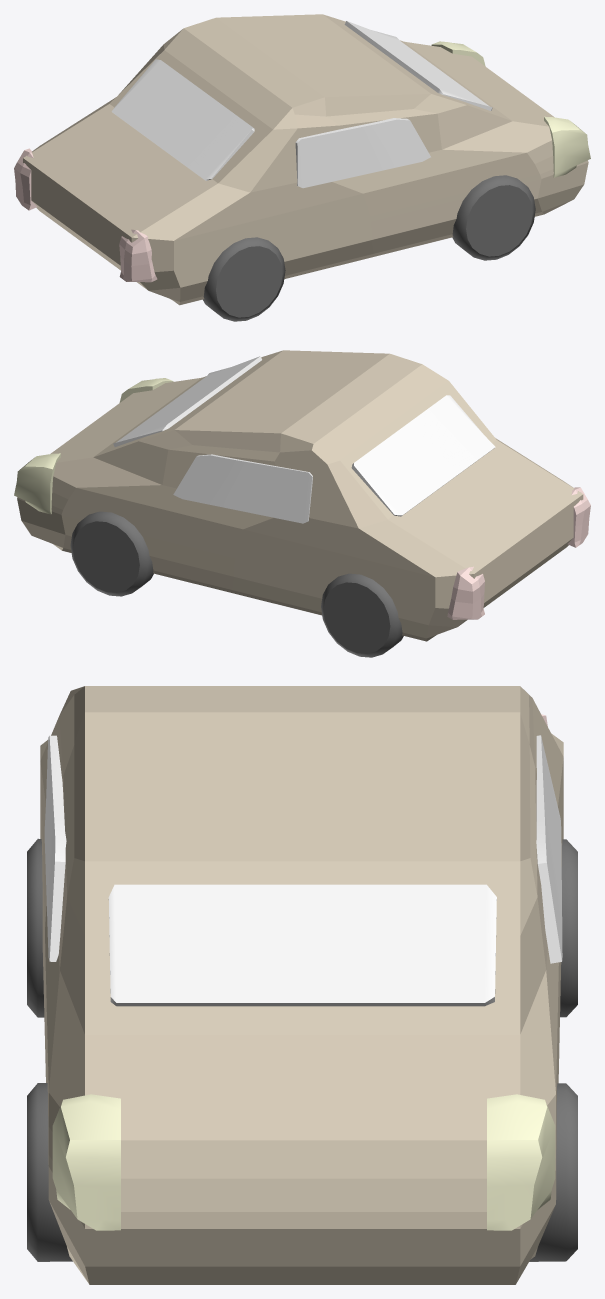
File: CarroVeige.fbx
The picture shows the model from 3 angles, top to bottom: view 1: azimuth 30°, elevation 25°; view 2: azimuth 150°, elevation 25°; view 3: azimuth 270°, elevation 25°; orthographic projection. The views are drawn at different scales.
Parts seen in each view (by area): view 1: pCube1, pCube10, pCube8, pCylinder1, pCylinder2, pCube6, pCube11, pCube9; view 2: pCube1, pCube10, pCube12, pCylinder3, pCylinder4, pCube6, pCube11, pCube9; view 3: pCube1, pCube6, pCube9, pCylinder1, pCylinder3, pCube12, pCube8, pCylinder4, pCylinder2.
Boxes of the visible parts, left/top/right/bottom form: pCube1: left=23, top=14, right=588, bottom=305; pCube10: left=111, top=59, right=254, bottom=180; pCube8: left=295, top=118, right=430, bottom=188; pCylinder1: left=452, top=175, right=535, bottom=260; pCylinder2: left=203, top=237, right=285, bottom=321; pCube6: left=344, top=21, right=492, bottom=110; pCube11: left=14, top=148, right=157, bottom=282; pCube9: left=431, top=41, right=590, bottom=177; pCube1: left=17, top=350, right=583, bottom=641; pCube10: left=351, top=395, right=495, bottom=516; pCube12: left=173, top=454, right=312, bottom=523; pCylinder3: left=70, top=511, right=153, bottom=596; pCylinder4: left=321, top=573, right=403, bottom=657; pCube6: left=113, top=356, right=261, bottom=446; pCube11: left=447, top=487, right=590, bottom=619; pCube9: left=14, top=378, right=173, bottom=514; pCube1: left=40, top=686, right=563, bottom=1284; pCube6: left=108, top=884, right=496, bottom=1006; pCube9: left=52, top=1094, right=555, bottom=1230; pCylinder1: left=27, top=1083, right=72, bottom=1261; pCylinder3: left=529, top=1083, right=577, bottom=1261; pCube12: left=536, top=735, right=562, bottom=963; pCube8: left=44, top=735, right=66, bottom=961; pCylinder4: left=560, top=839, right=577, bottom=1017; pCylinder2: left=27, top=838, right=44, bottom=1017.
Size of the model in its own units: 21.52 by 8.56 by 11.09.
